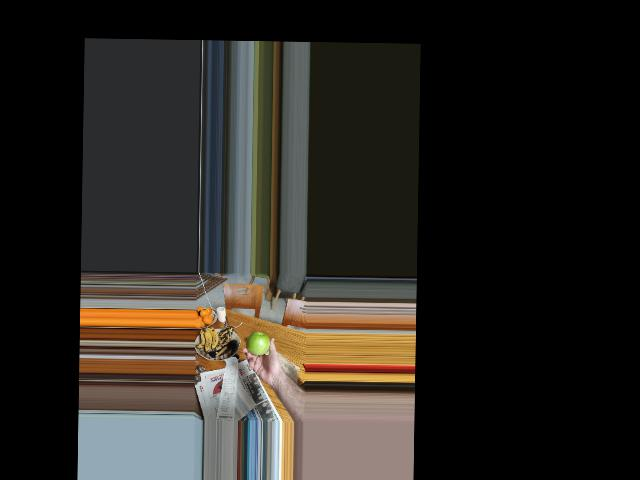apple: (245, 330, 270, 357)
